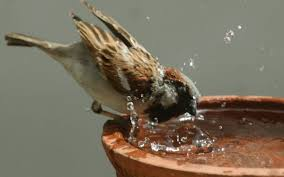hsparrow: (4, 1, 203, 128)
